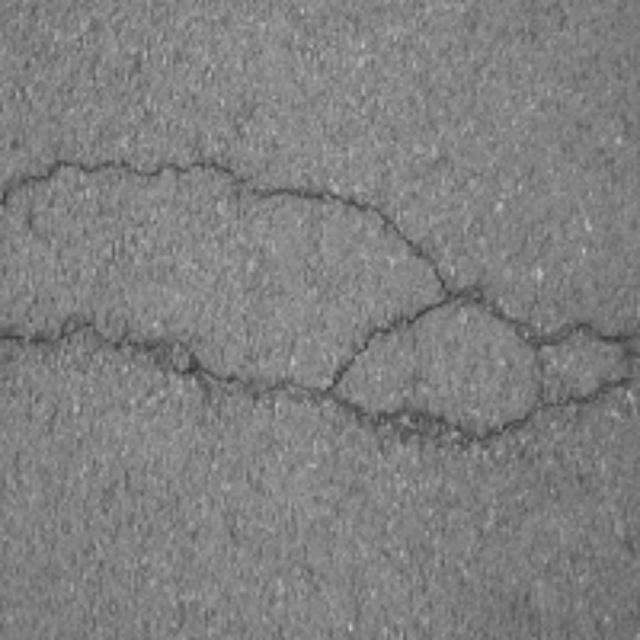Crack: (0, 123, 640, 470)
